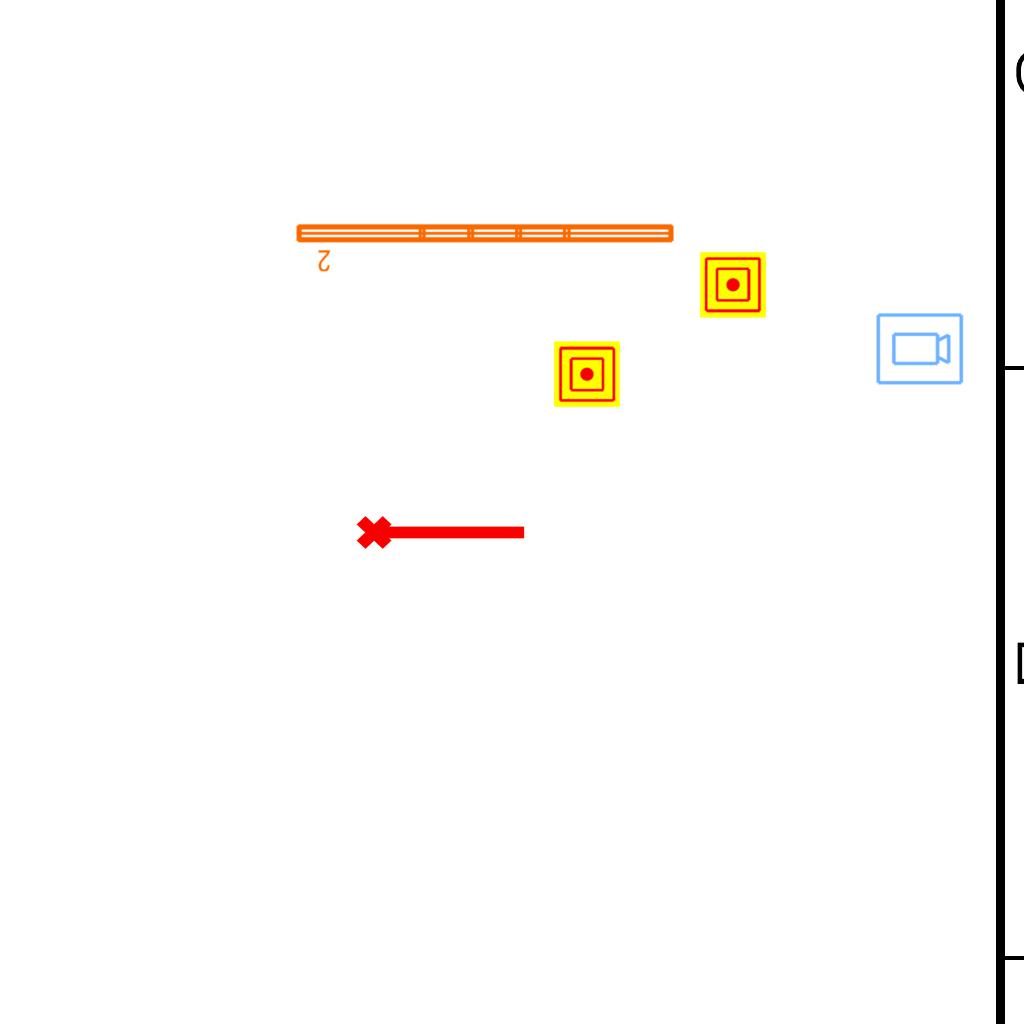ASR_Ansaugoeffnung: (354, 507, 530, 553)
Ambulanz_Pendelleuchte_LED: (292, 218, 679, 274)
KFO_Kamera_mit_Festobjektiv: (874, 311, 965, 388)
NAM-Nichtautomatischer_Melder: (700, 252, 766, 318), (554, 341, 620, 407)
